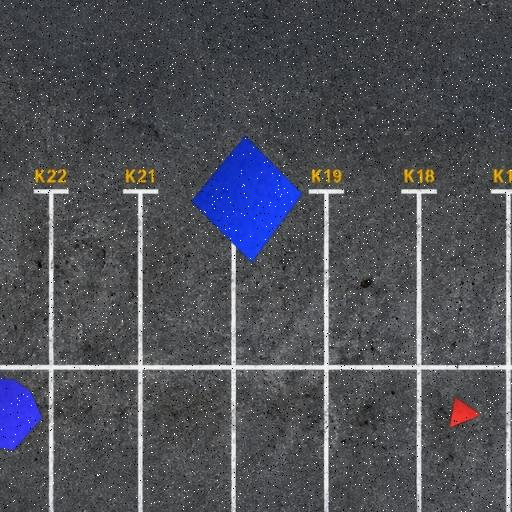BLUE_SQUARE: (191, 134, 303, 264)
